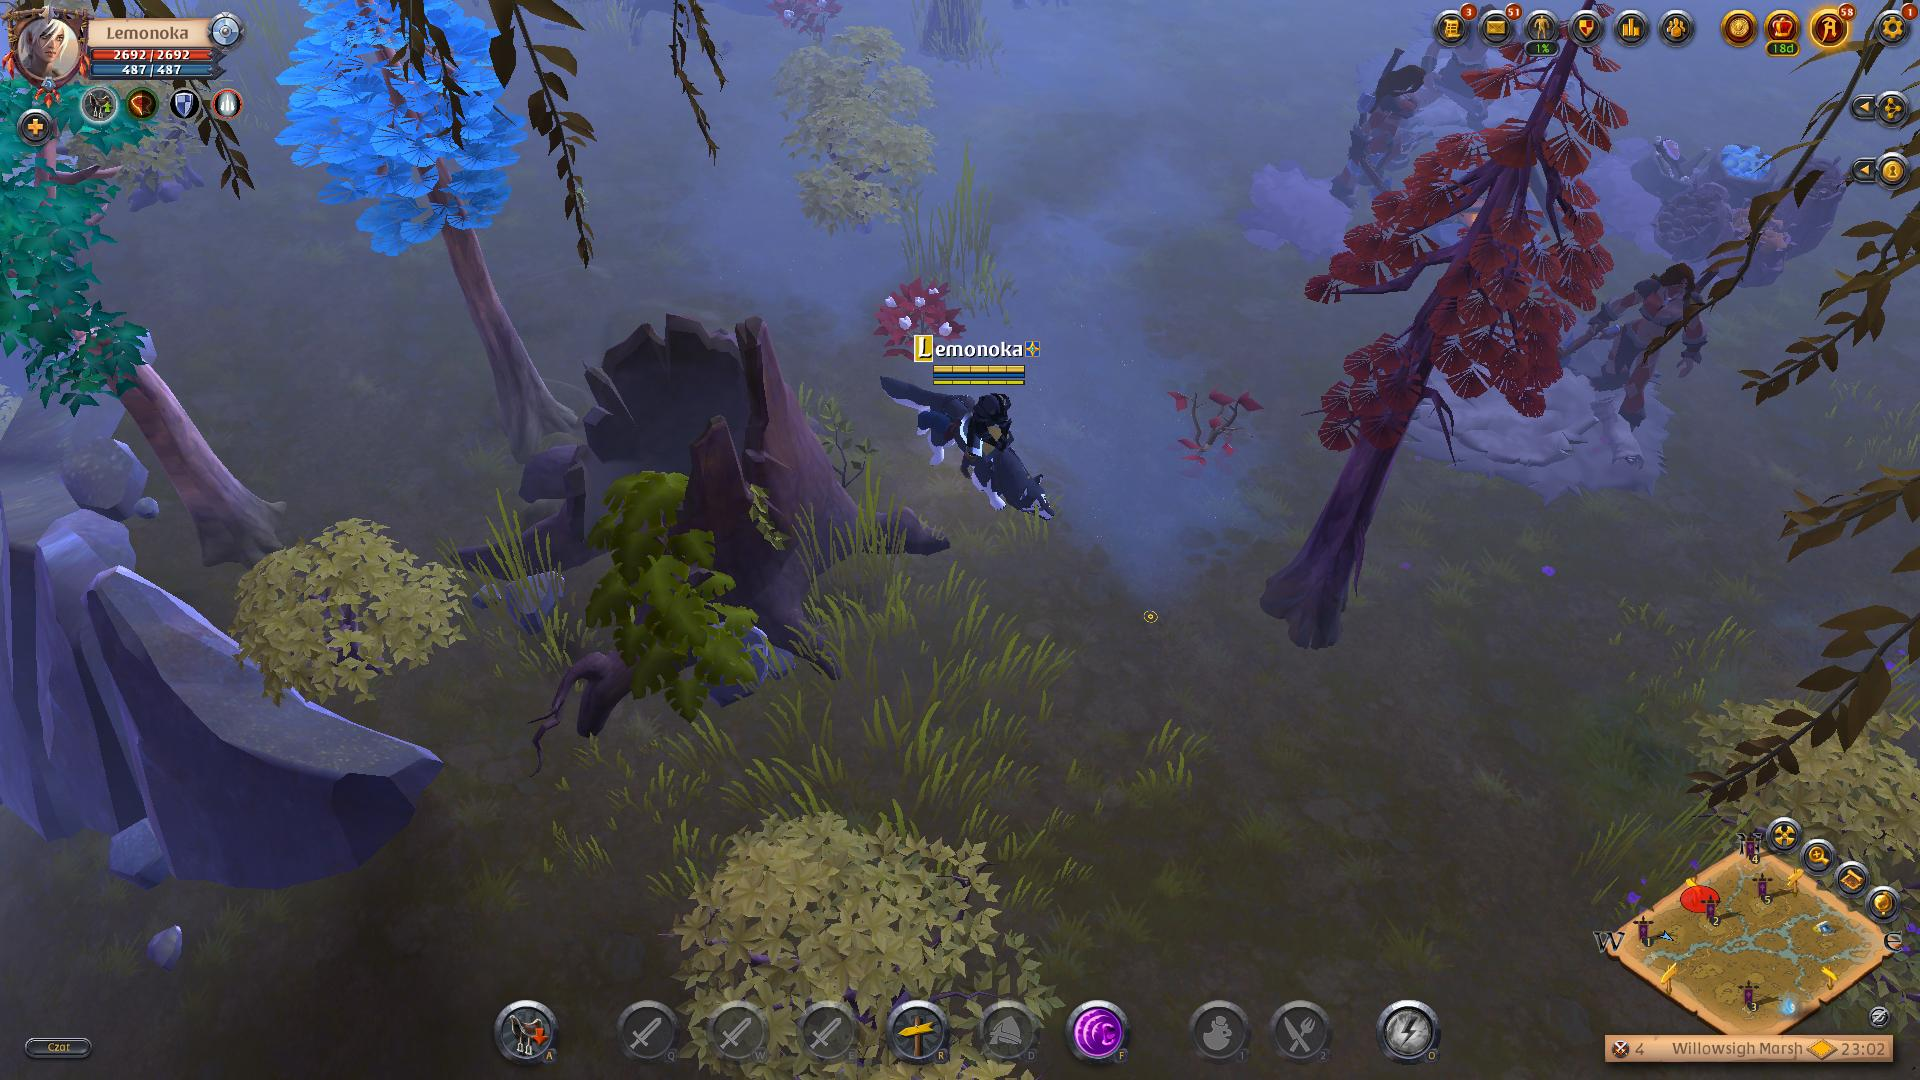fiber tier 5: (876, 272, 964, 335)
wood tier 5: (1290, 57, 1629, 467)
